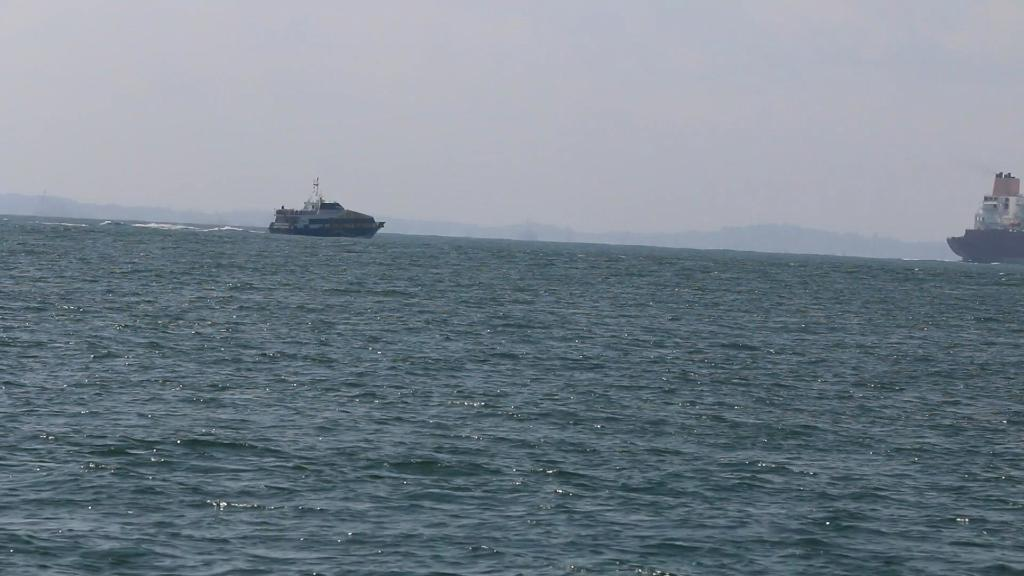PassengerShip: (264, 174, 388, 240)
